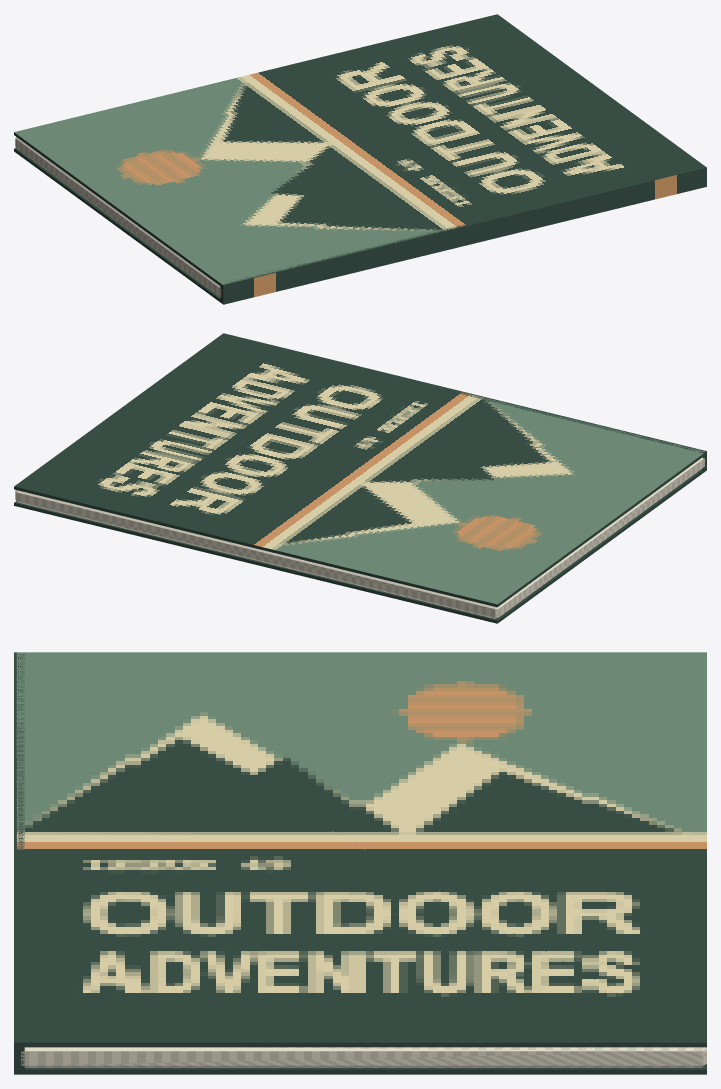
File: mag_survival.glb
3 views of the same model, one above another, from view 1: azimuth 30°, elevation 25°; view 2: azimuth 150°, elevation 25°; view 3: azimuth 270°, elevation 25° (orthographic). The views are drawn at different scales.
Visible parts, largest first — view 1: block_front, block_spine, block_pages, block_back; view 2: block_front, block_pages, block_back, block_spine; view 3: block_front, block_pages, block_back, block_spine.
Boxes of the visible parts, bbox=[...] form: block_front: bbox=[14, 14, 705, 287]; block_spine: bbox=[220, 167, 706, 304]; block_pages: bbox=[15, 137, 221, 297]; block_back: bbox=[14, 148, 222, 303]; block_front: bbox=[14, 334, 706, 607]; block_pages: bbox=[15, 457, 704, 619]; block_back: bbox=[14, 468, 706, 623]; block_spine: bbox=[220, 333, 706, 470]; block_front: bbox=[16, 652, 706, 1047]; block_pages: bbox=[21, 1047, 706, 1067]; block_back: bbox=[16, 1064, 706, 1074]; block_spine: bbox=[14, 652, 24, 1074].
Size of the model in its own units: 0.2154 by 0.00821 by 0.1617.
1 material, 1 textured.
